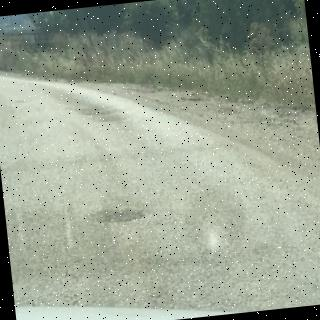pothole: (88, 207, 145, 222)
